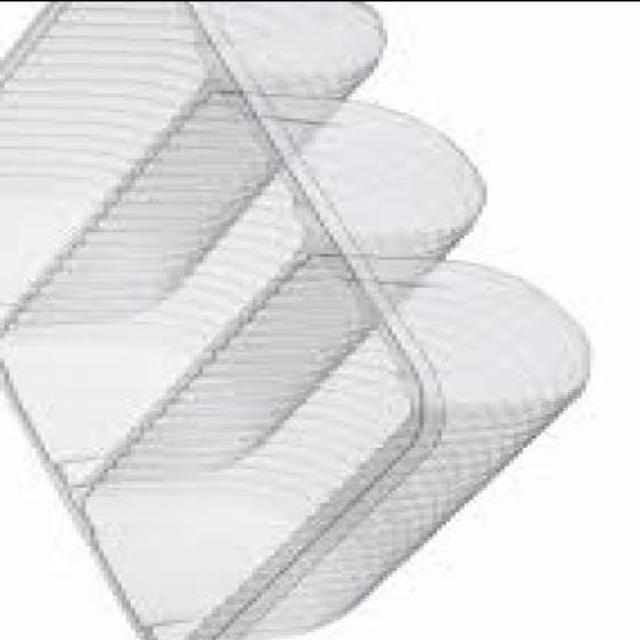plastic_box: (1, 4, 602, 638)
